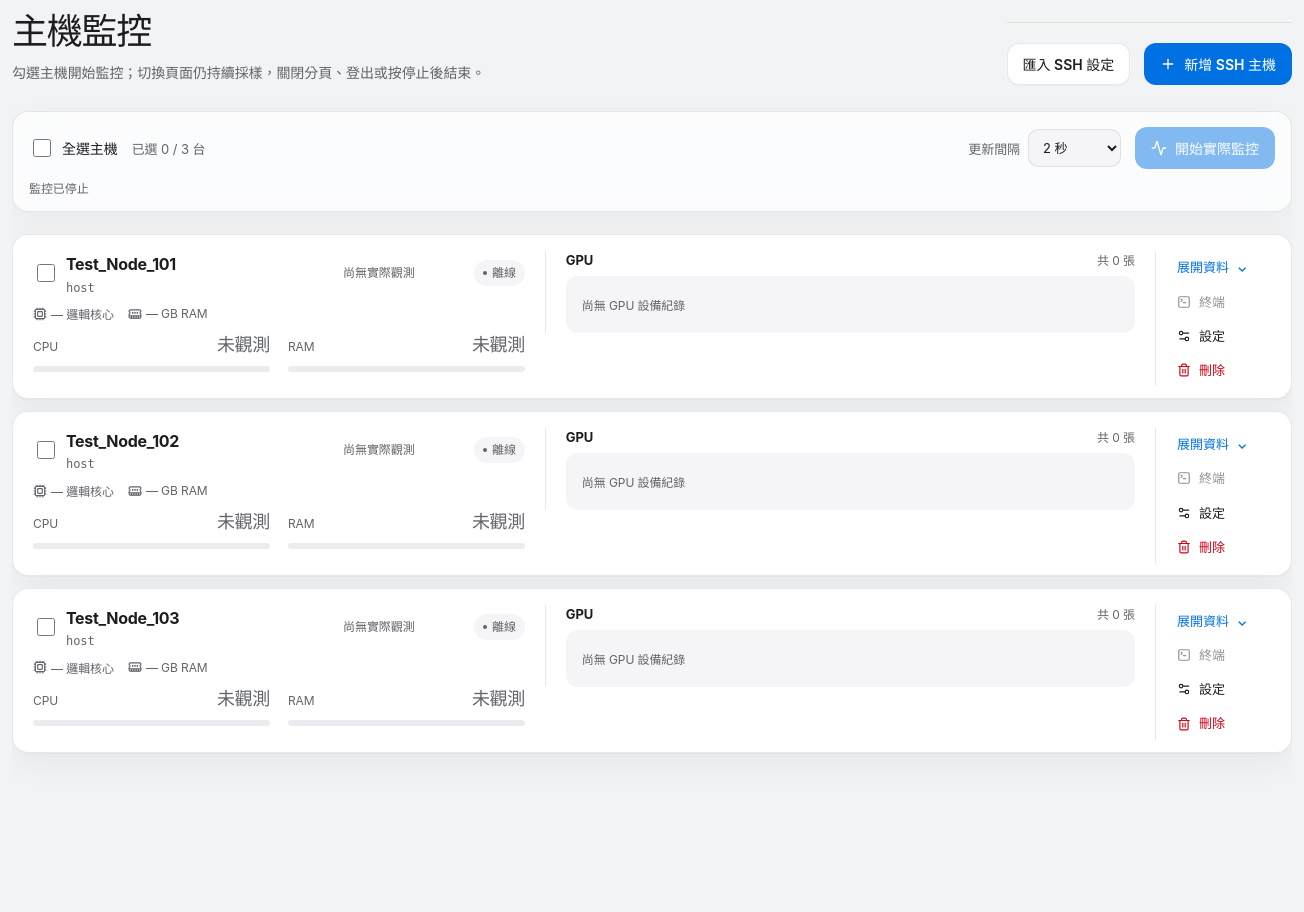
Scenario: explicit real host monitoring › treats every registered host uniformly and starts/stops with the exact selection; never shows demo readings
Expected: the button "開始實際監控" is disabled, [1135,127,1275,169]
Expected: the checkbox named "監控 Test_Node_102" is enabled, [37,441,55,459]
What coordinates should you click on to do the following:
click the checkbox labelled "全選主機"
I would click on:
 (42, 148)
Its box is [33,139,51,157].
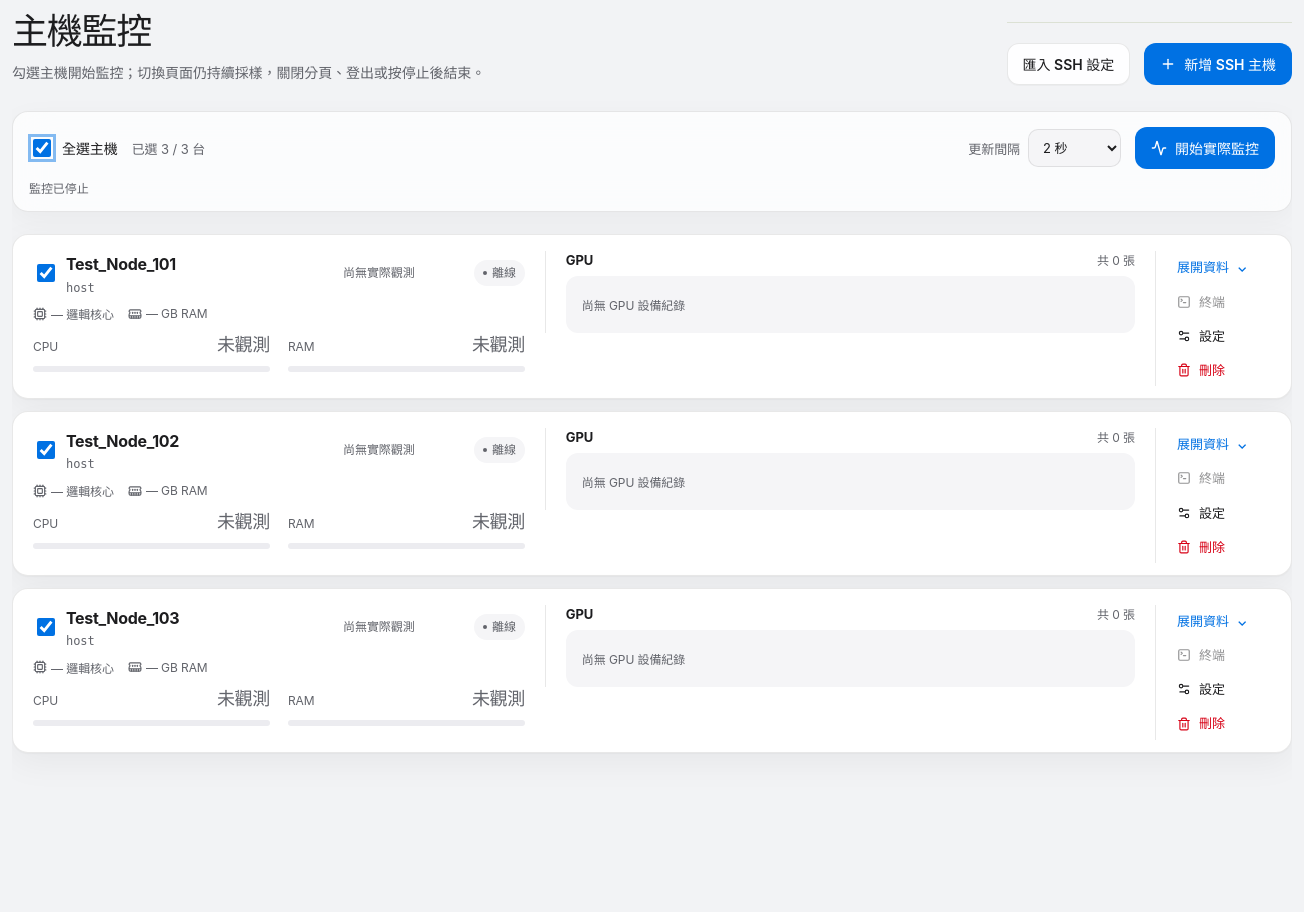
What coordinates should you click on to do the following:
click the button "開始實際監控"
I would click on:
 (1205, 148)
Its box is [1135,127,1275,169].
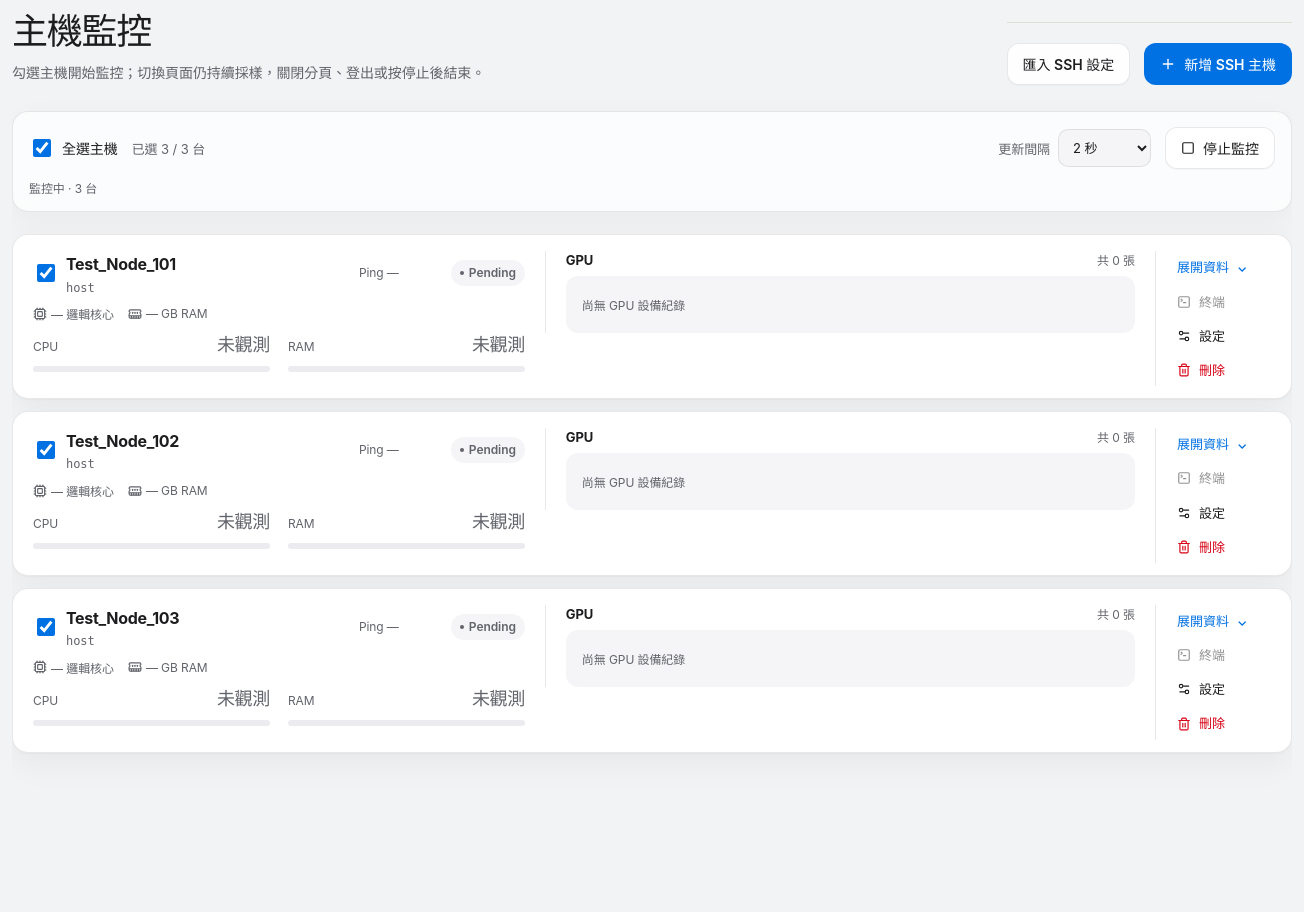
Result: the text "監控中 · 3 台" is shown at [29,181,97,196]
What coordinates should you click on to do the following:
click the checkbox named "監控 Test_Node_102"
I would click on:
 (46, 450)
Its box is [37,441,55,459].
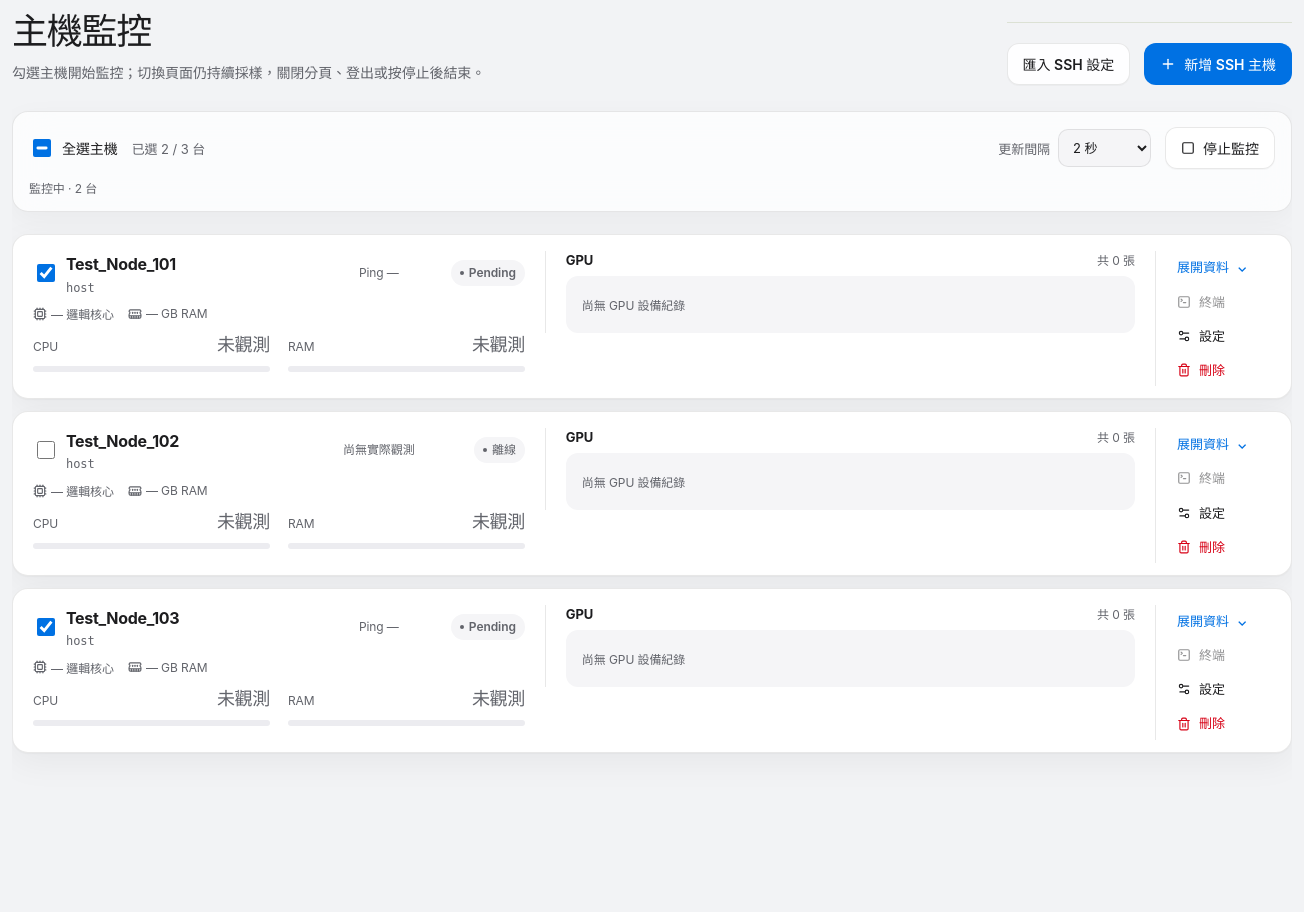
What coordinates should you click on to do the following:
click the button "停止監控"
I would click on:
 (1220, 148)
Its box is [1165,127,1275,169].
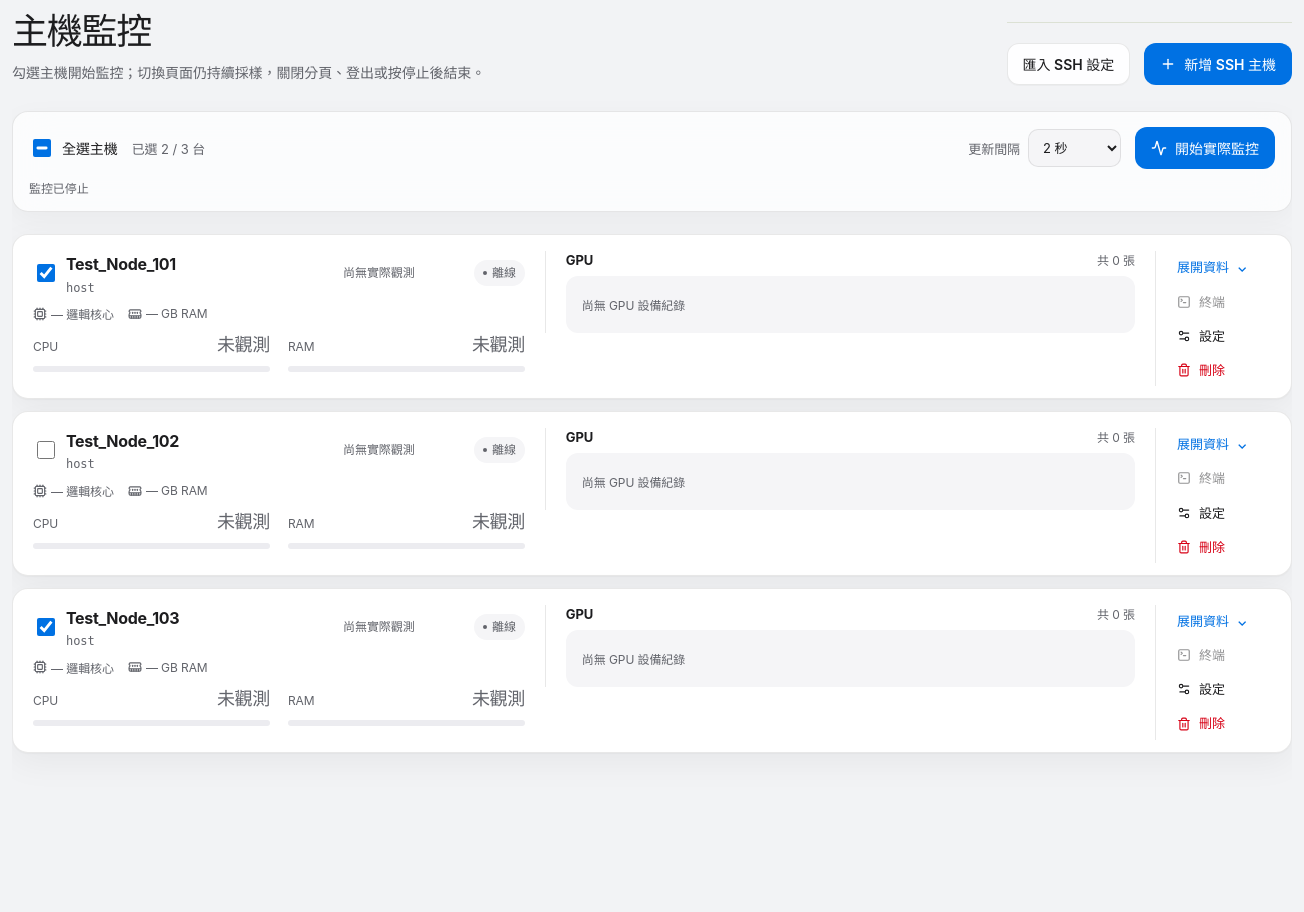
Result: the button "停止監控" is gone
